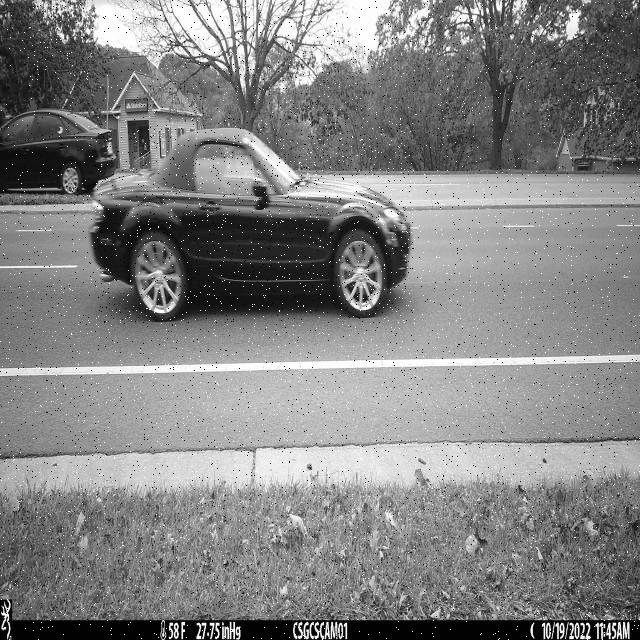Sedan: (89, 128, 415, 323)
